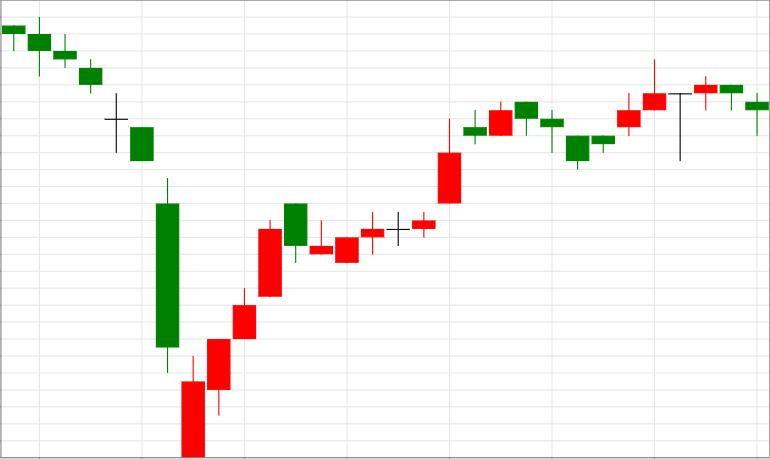three_white_soldiers_rise: (2, 16, 281, 457)
